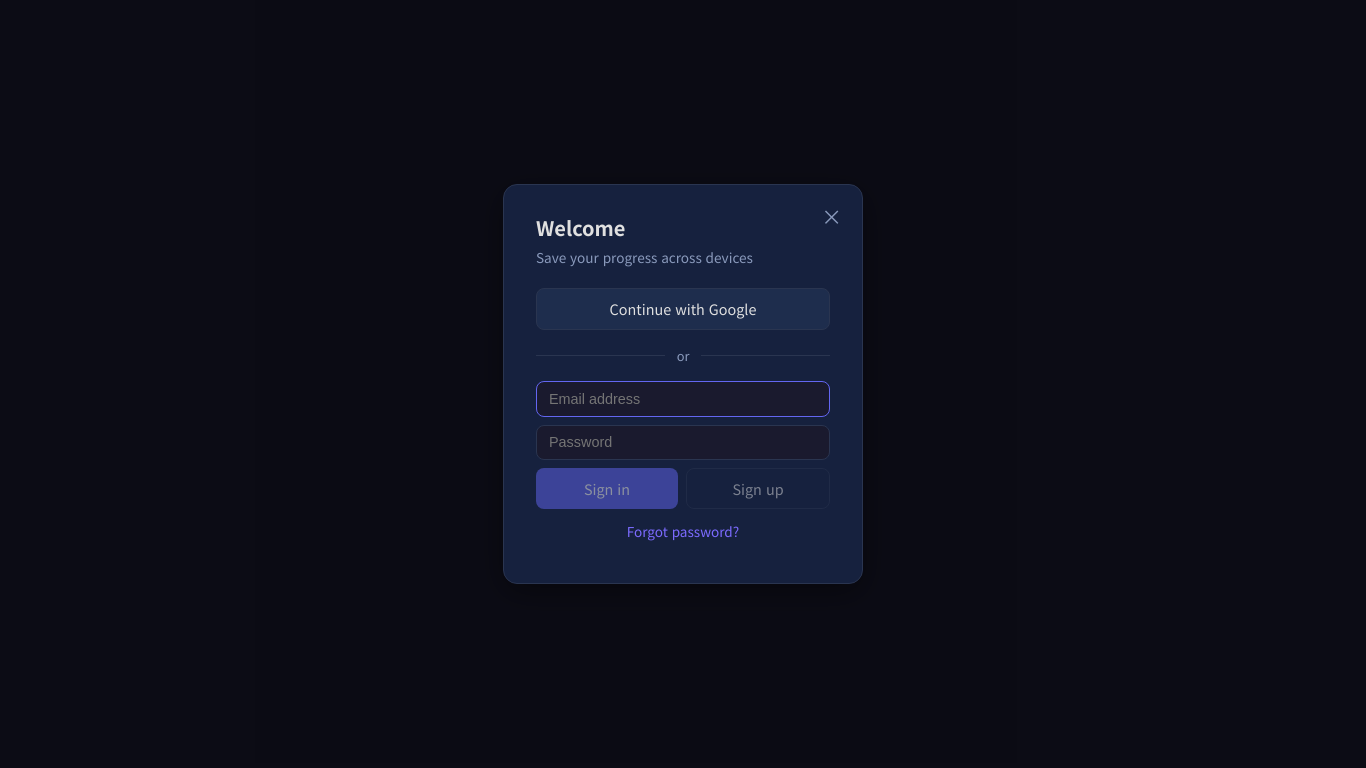
AuthModal — sign-in / sign-up flow › navigates to forgot-password step and sends reset email
Click the button "Forgot password?" at (683, 531), box [627, 521, 739, 541]
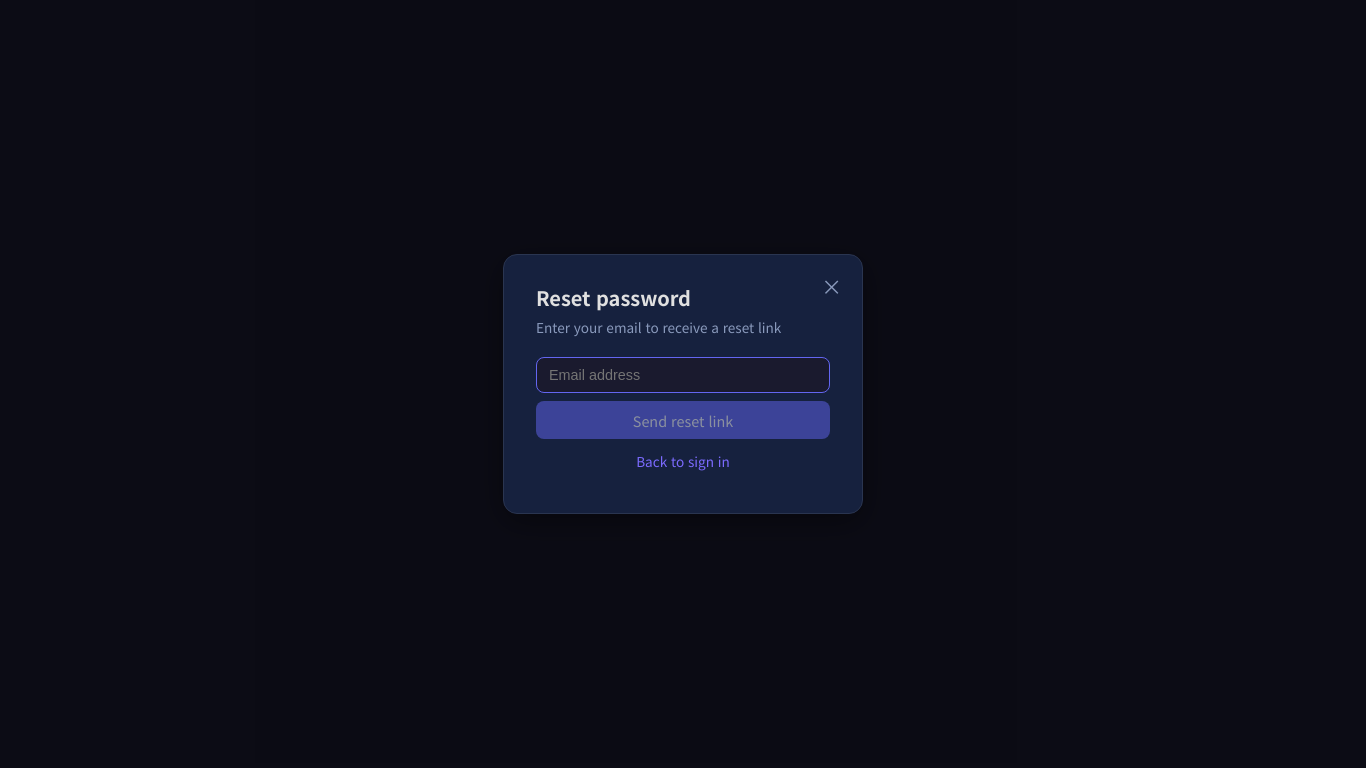
Expected: the heading "Reset password" is shown, [536, 283, 691, 312]
Type "forgot@example.com" into the field with placeholder "Email address" at (683, 375), box [536, 357, 830, 393]
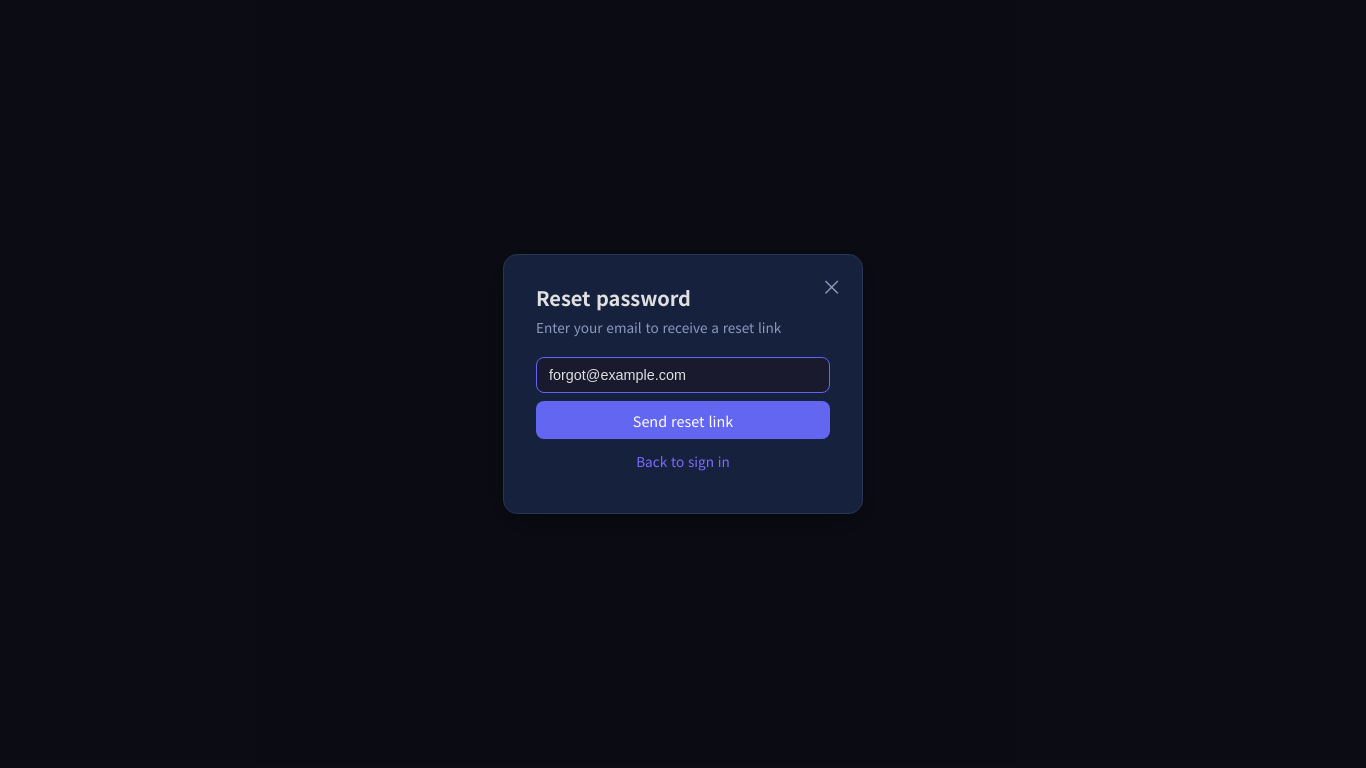
Click the button "Send reset link" at (683, 420), box [536, 401, 830, 439]
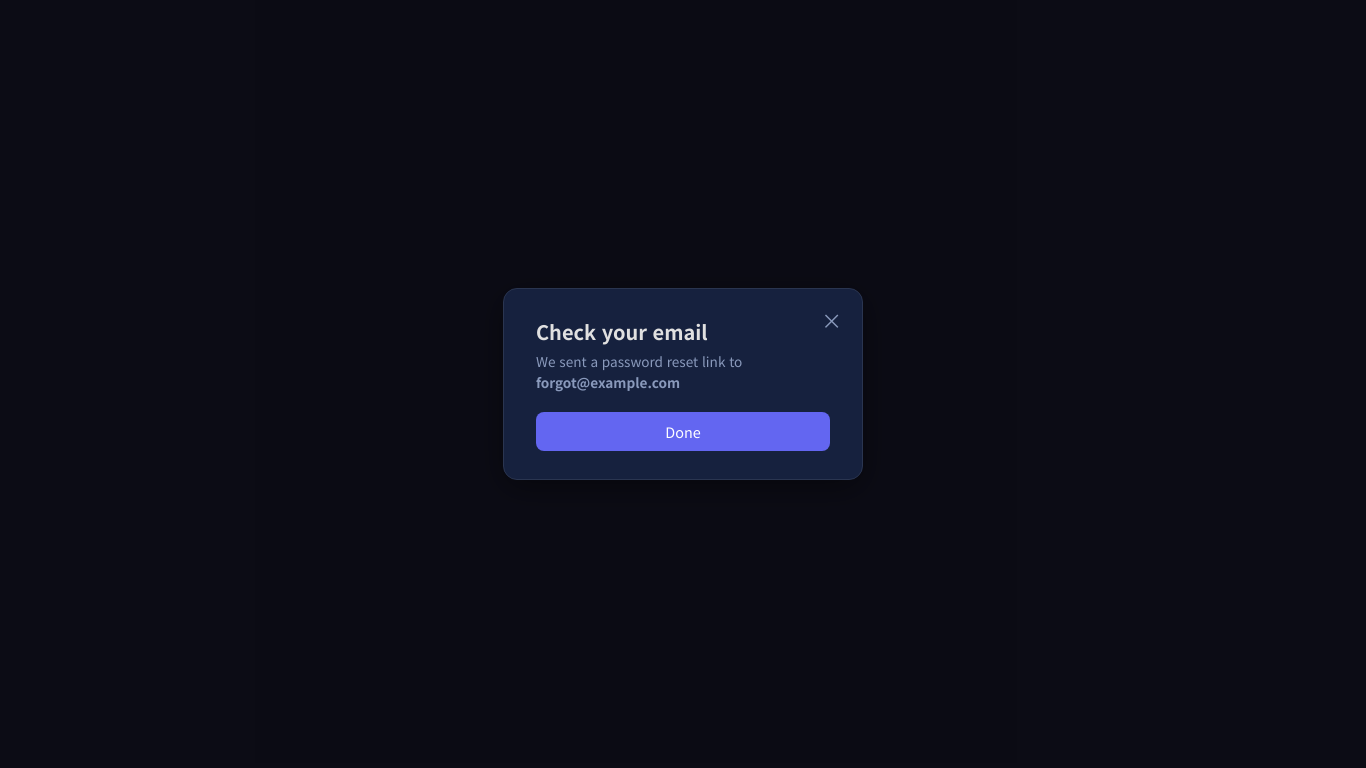
Expected: the heading "Check your email" is shown, [536, 317, 708, 346]
